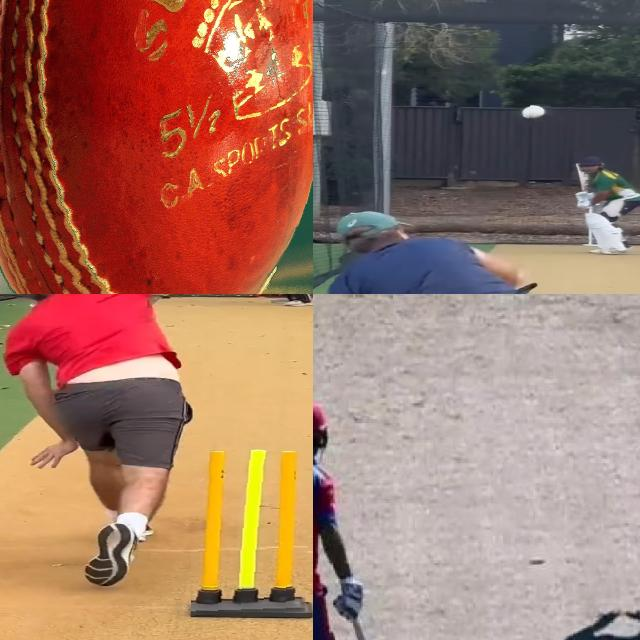Cricket ball: (0, 0, 313, 294), (518, 104, 551, 121)
Stumps: (190, 450, 313, 617)
